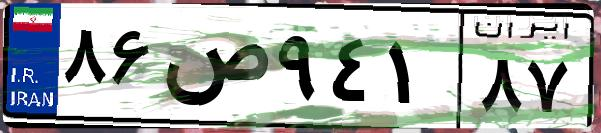1: (385, 28, 445, 110)
4: (330, 28, 385, 110)
6: (110, 28, 158, 98)
7: (525, 38, 570, 115)
8: (57, 26, 110, 100), (475, 38, 525, 113)
9: (270, 28, 330, 110)
ص: (158, 20, 270, 120)
